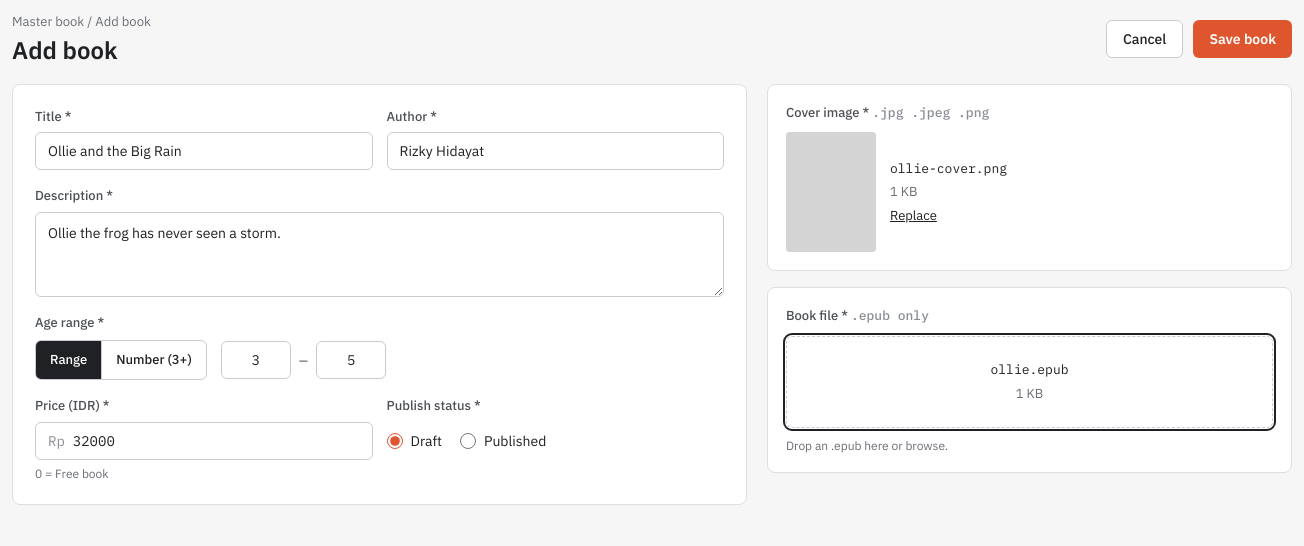
Scenario: BookForm › shows the server's age error next to the field
Earlier steps of the test are not shown.
What coordinates should you click on to do the following:
click the button "Save book"
I would click on:
 (1243, 39)
Its box is [1193,20,1292,58].
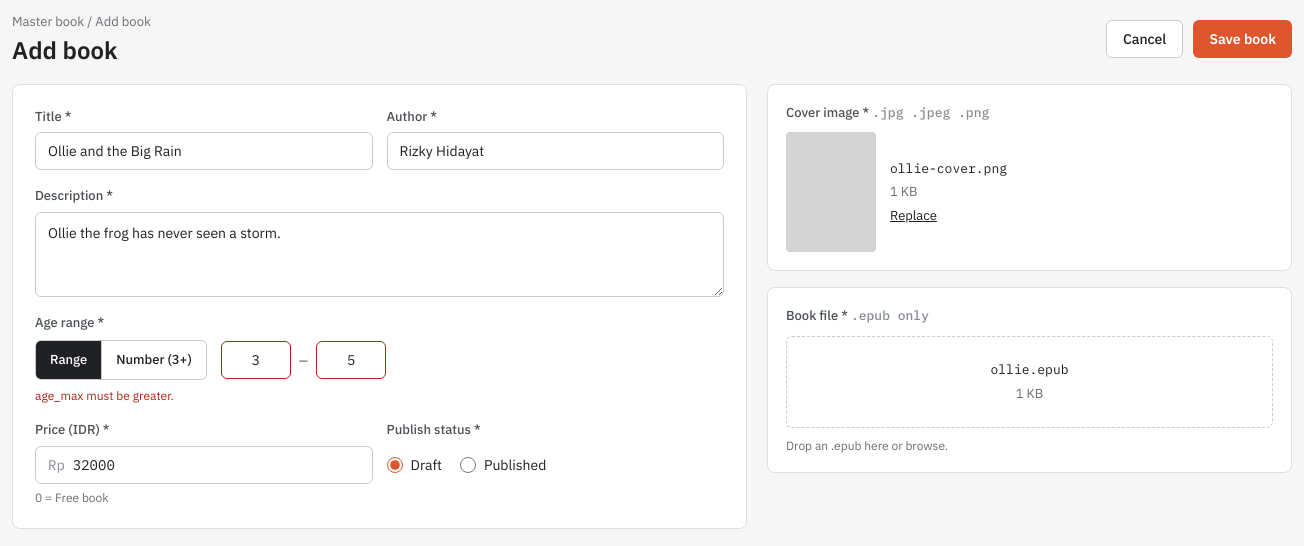
Result: the text "age_max must be greater." is shown at [35,388,174,403]
